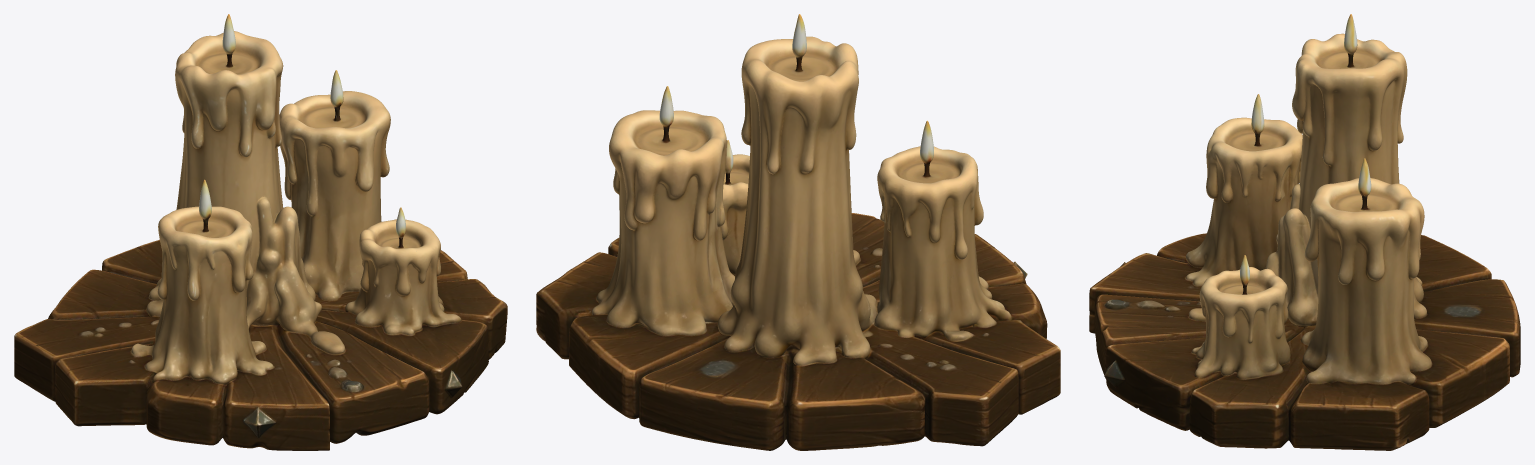
The model's file is furniture_10.glb.
3 renders of one model, left to right at view 1: azimuth 30°, elevation 25°; view 2: azimuth 150°, elevation 25°; view 3: azimuth 270°, elevation 25°, orthographic. The views are drawn at different scales.
Bounding box in the file's own units: 1.9 × 1.47 × 1.71.
1 material, 1 textured.
